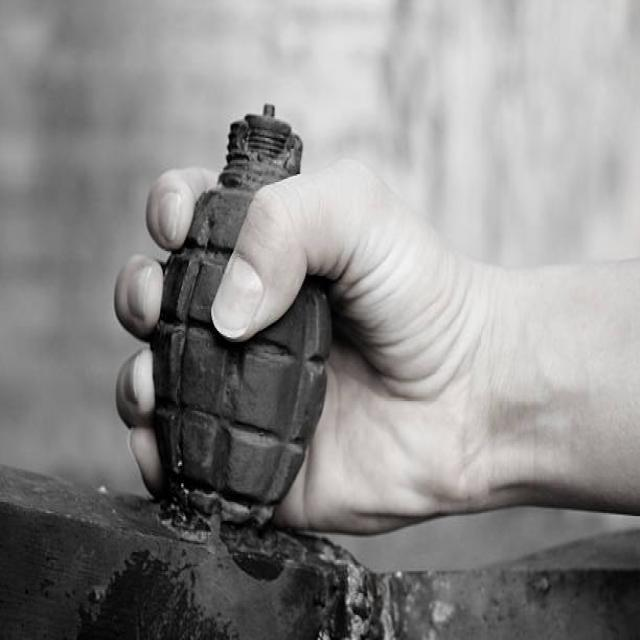grenade: (155, 95, 339, 544)
